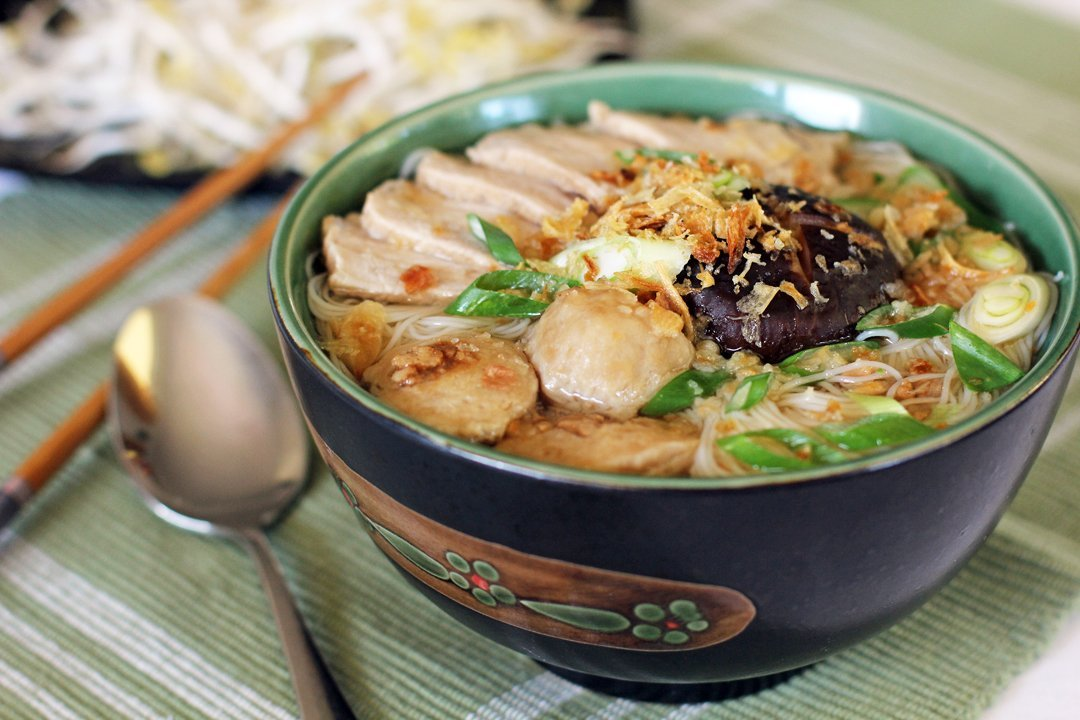chamoc: (528, 298, 695, 406), (361, 335, 530, 436), (501, 407, 699, 471)
